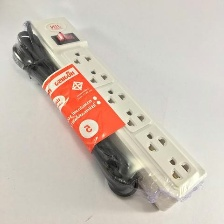three_eye_plug: (23, 13, 208, 212)
